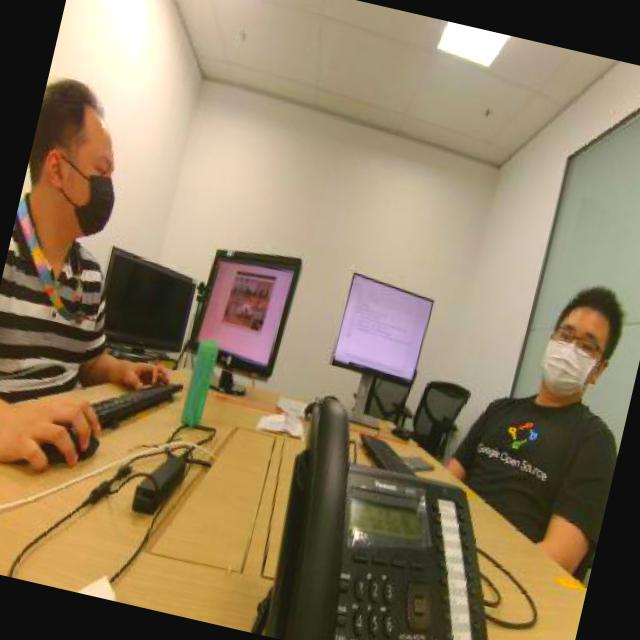Person: (0, 50, 169, 395), (446, 234, 640, 509)
